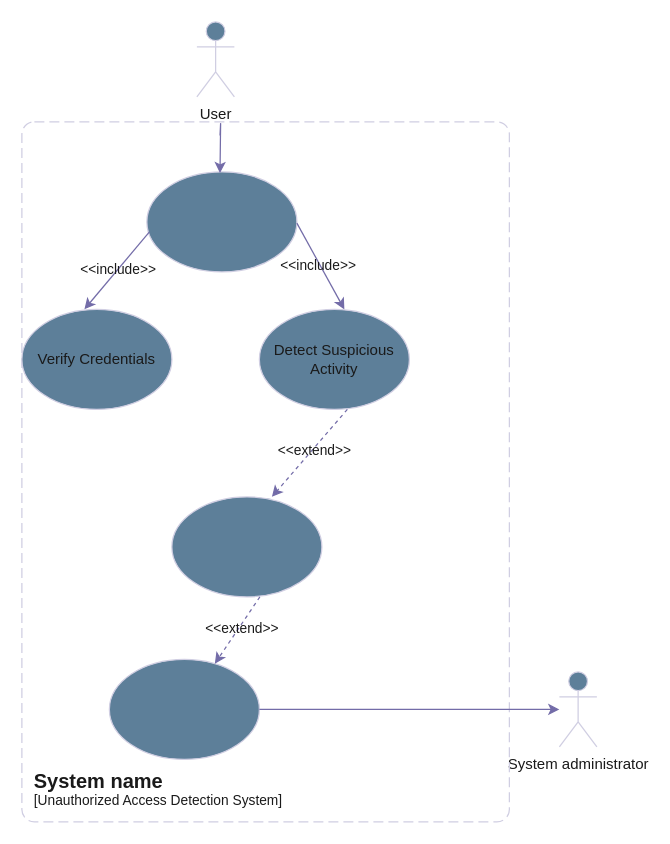
This 670x844 diagram has some shape labels left out. The centre of each missing label's shape, as x and y in pixels:
Block Account: [246,546]
Login: [221,221]
Send Alert: [183,708]
